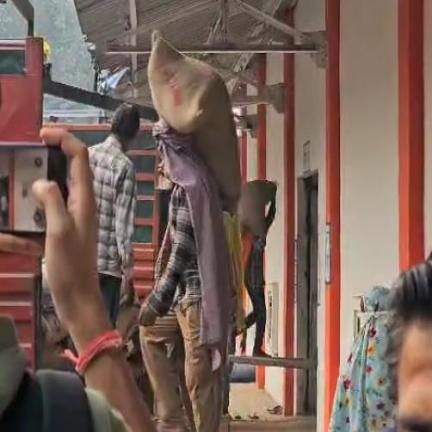Zone-Counting: (139, 33, 240, 431)
